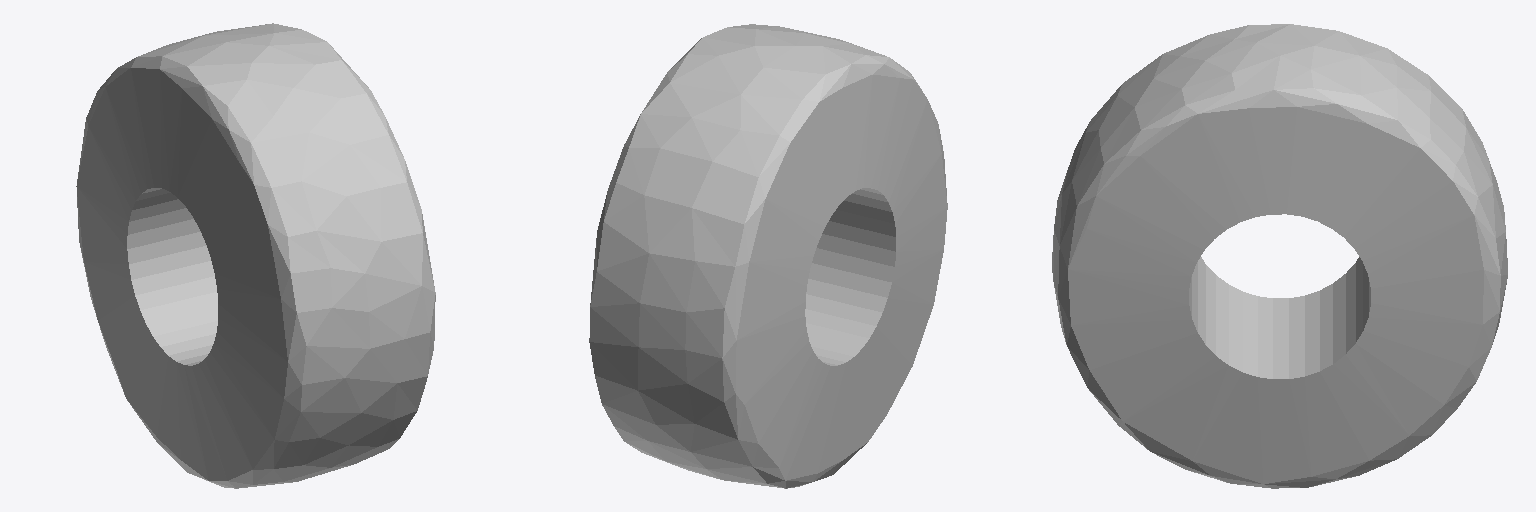
Rendered from caster_2.obj.
3 views of the same model, side by side, from view 1: azimuth 30°, elevation 25°; view 2: azimuth 150°, elevation 25°; view 3: azimuth 270°, elevation 25° (orthographic).
Visible parts, largest first — view 1: caster_2; view 2: caster_2; view 3: caster_2.
Boxes of the visible parts, x1=… form: caster_2: x1=76, y1=23, x2=435, y2=488; caster_2: x1=589, y1=24, x2=947, y2=488; caster_2: x1=1052, y1=24, x2=1507, y2=488.
Bounding box in the file's own units: 0.021 × 0.05 × 0.05.